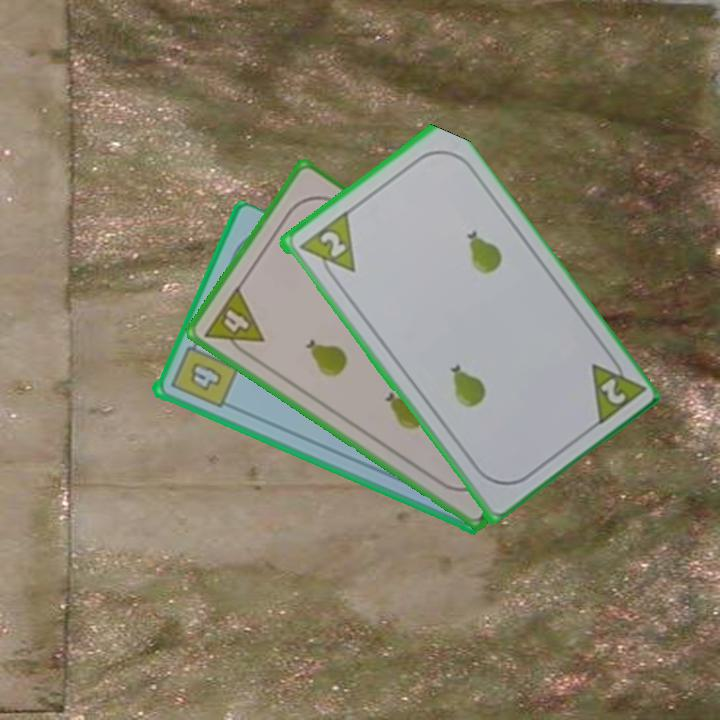2p: (293, 209, 358, 287), (586, 347, 646, 430)
4b: (166, 334, 240, 411)
4p: (200, 282, 267, 362)
